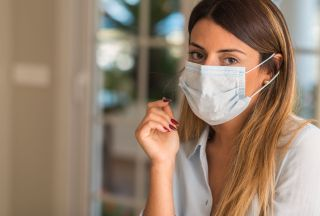with_mask: (176, 9, 280, 123)
